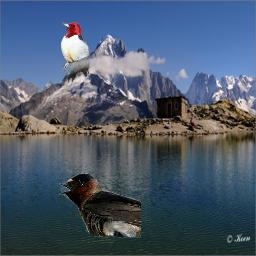Swallow: (58, 173, 141, 238)
Woodpecker: (59, 22, 91, 86)
